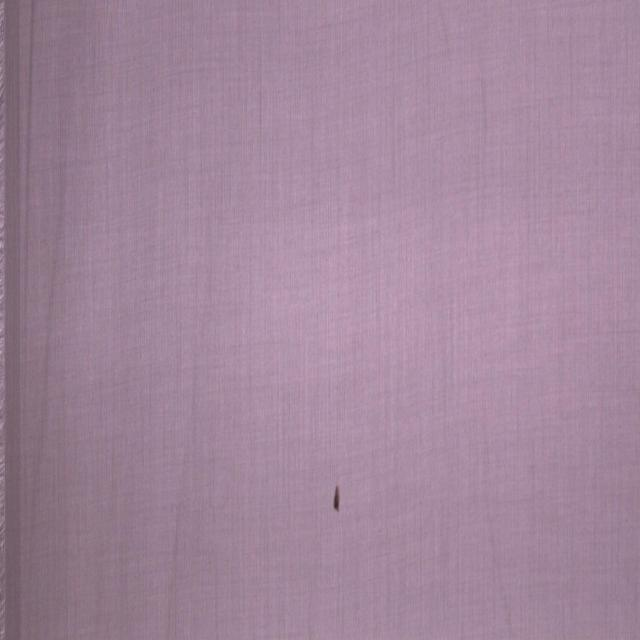dirty: (334, 485, 339, 512)
